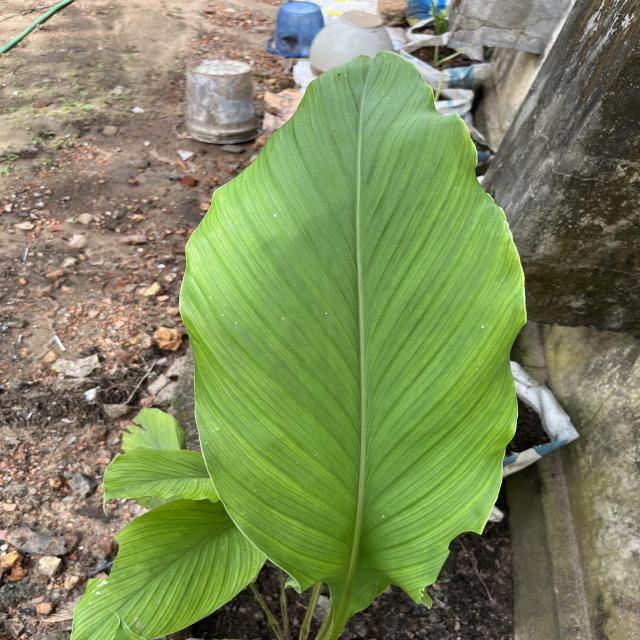Curcuma longa: (176, 49, 532, 611)
